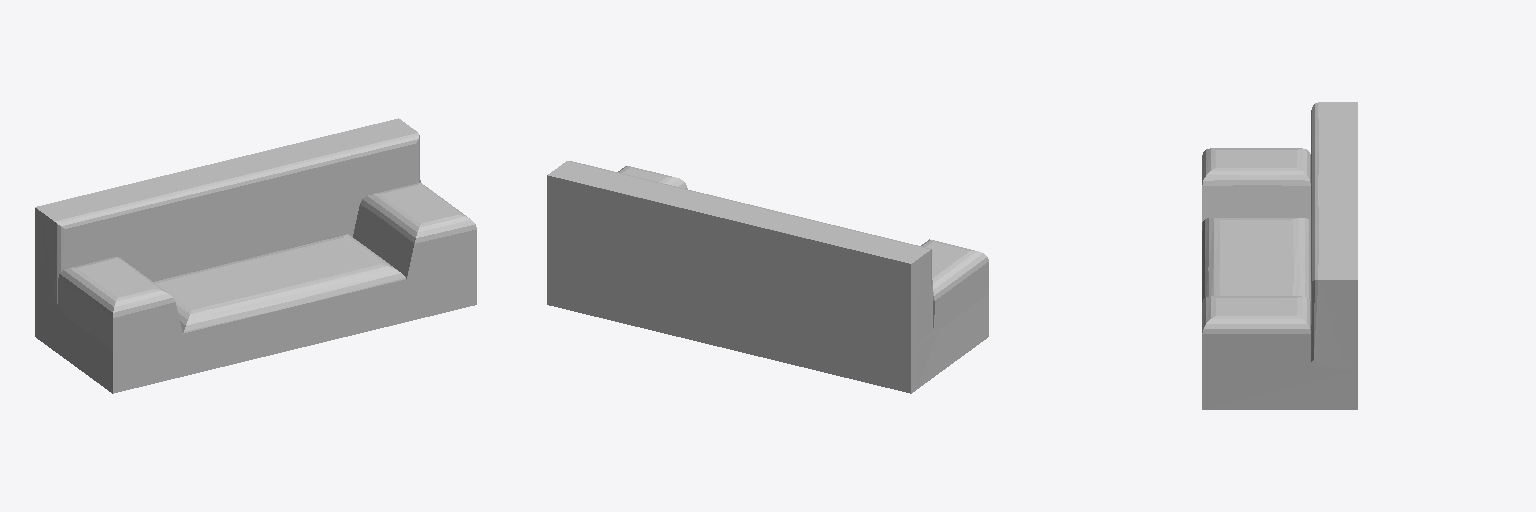
Rendered from couch.obj.
3 views of the same model, side by side, from view 1: azimuth 30°, elevation 25°; view 2: azimuth 150°, elevation 25°; view 3: azimuth 270°, elevation 25° (orthographic).
Parts seen in each view (by area): view 1: couch1; view 2: couch1; view 3: couch1.
Part boxes in pixels (bbox=[...]): couch1: bbox=[35, 118, 476, 393]; couch1: bbox=[547, 161, 988, 393]; couch1: bbox=[1202, 102, 1357, 409].
Bounding box in the file's own units: 20.62 × 7.01 × 7.62.